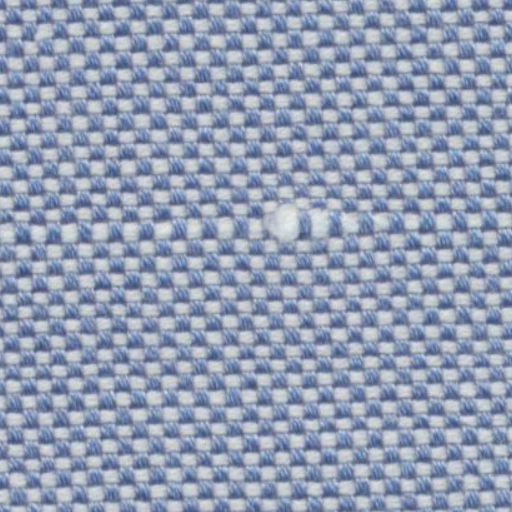DaiSha: (13, 198, 468, 248)
